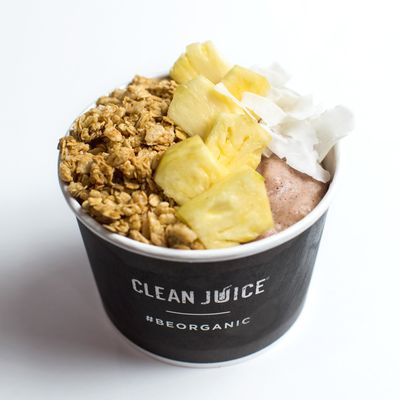sushi: (57, 8, 345, 369)
